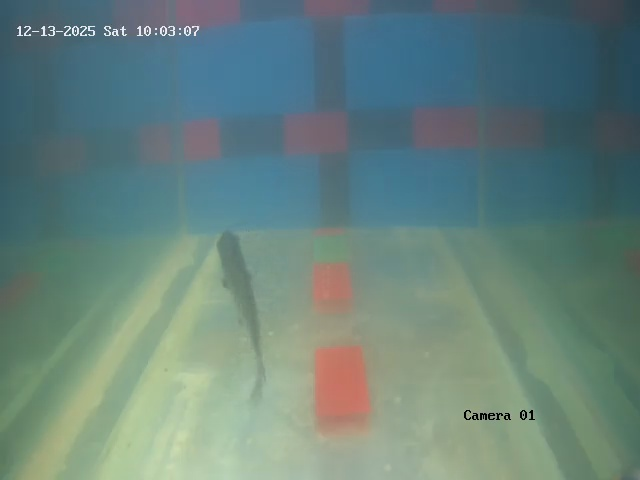fish: (212, 230, 269, 355)
